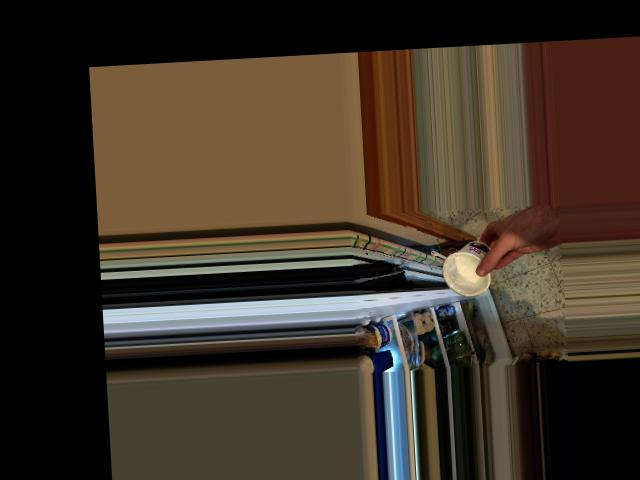cotage: (435, 236, 498, 298)
